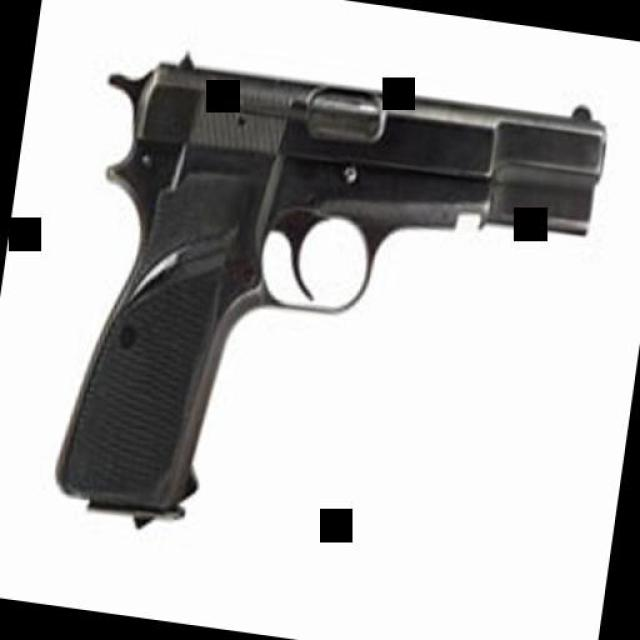gun: (37, 25, 622, 576)
